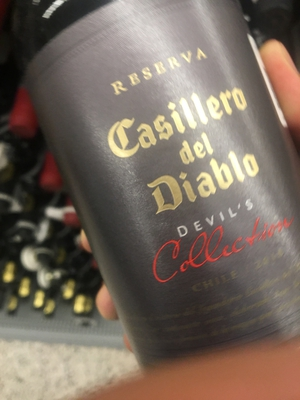casillero del diablo devils collection rojo: (17, 3, 300, 370)
